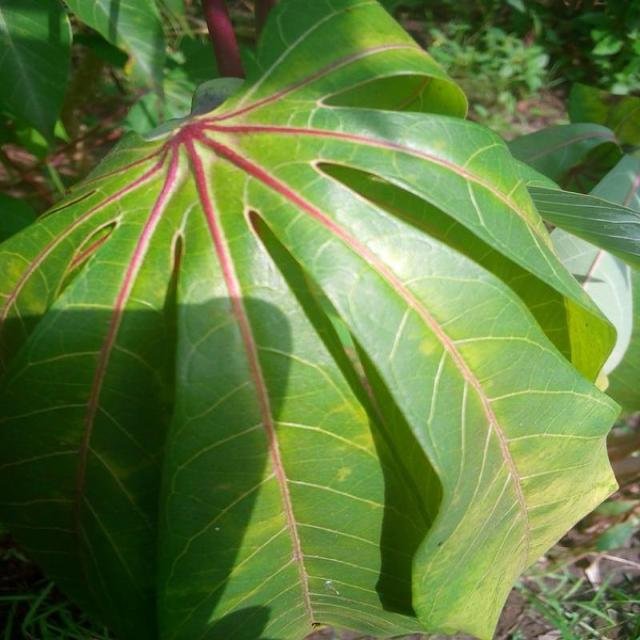cassava leaf: (2, 1, 626, 638)
